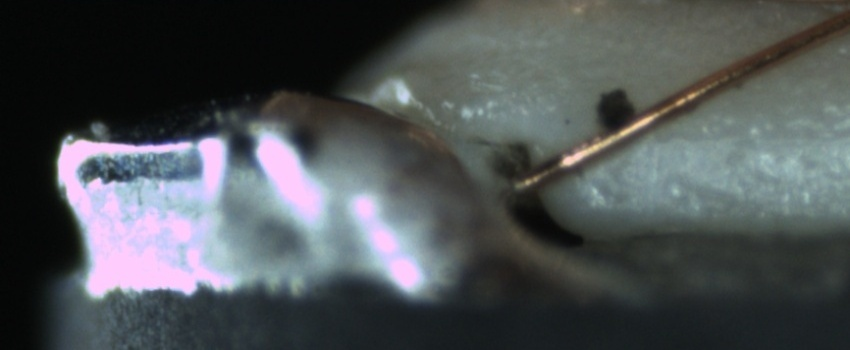DL: (666, 98, 850, 164)
